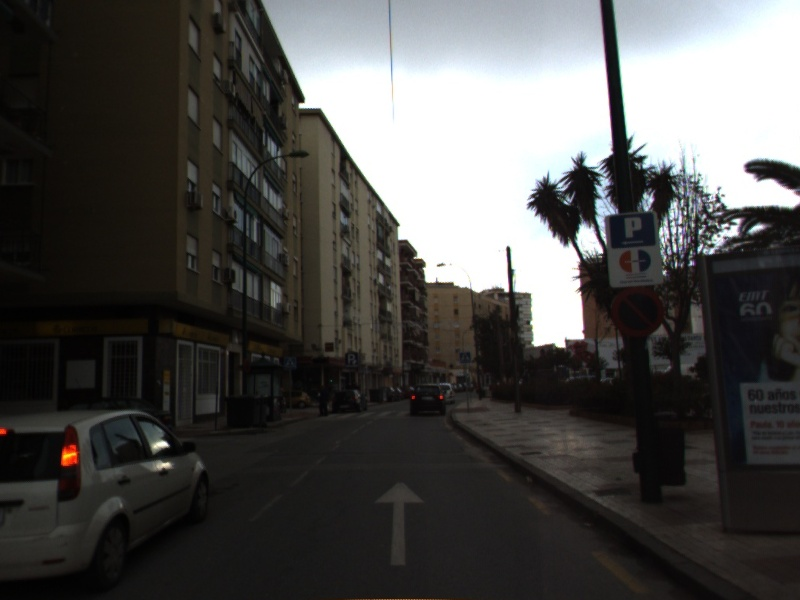STRAIGHT: (371, 479, 427, 568)
